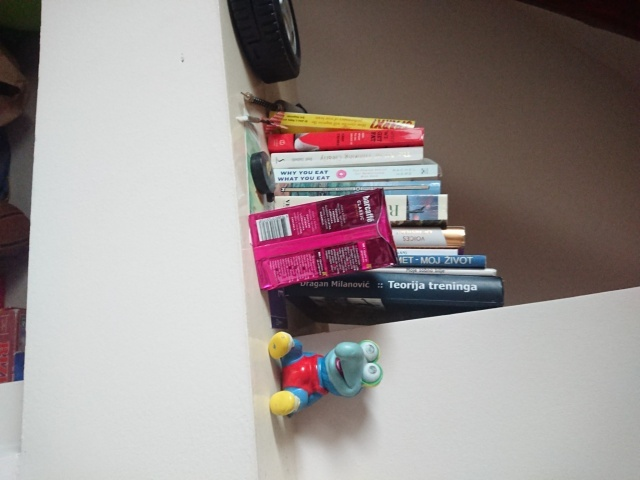Barcaffe Classic Original 225g: (245, 185, 400, 293)
